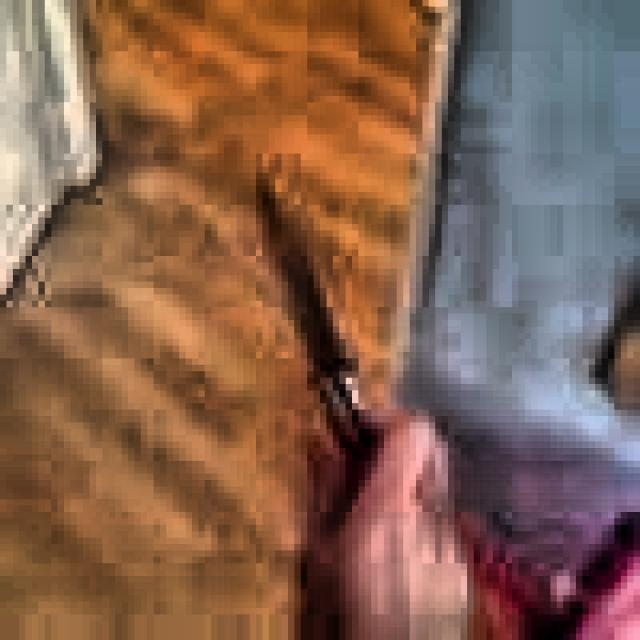knife: (254, 180, 383, 480)
